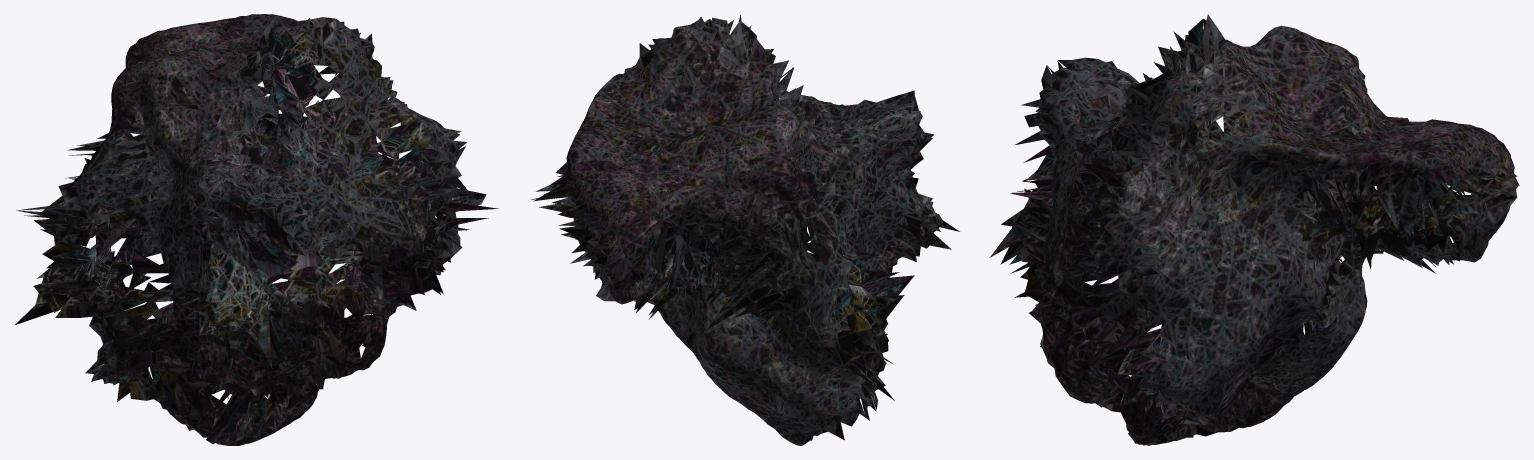
File: ore.glb
3 views of the same model, side by side, from view 1: azimuth 30°, elevation 25°; view 2: azimuth 150°, elevation 25°; view 3: azimuth 270°, elevation 25° (orthographic). The views are drawn at different scales.
Parts seen in each view (by area): view 1: Cube; view 2: Cube; view 3: Cube.
Boxes of the visible parts, x1,y1,x2,y2 form: Cube: (15, 14, 498, 445); Cube: (530, 15, 959, 445); Cube: (989, 14, 1519, 445).
Size of the model in its own units: 4.17 by 4.12 by 4.27.
1 material, 1 textured.
